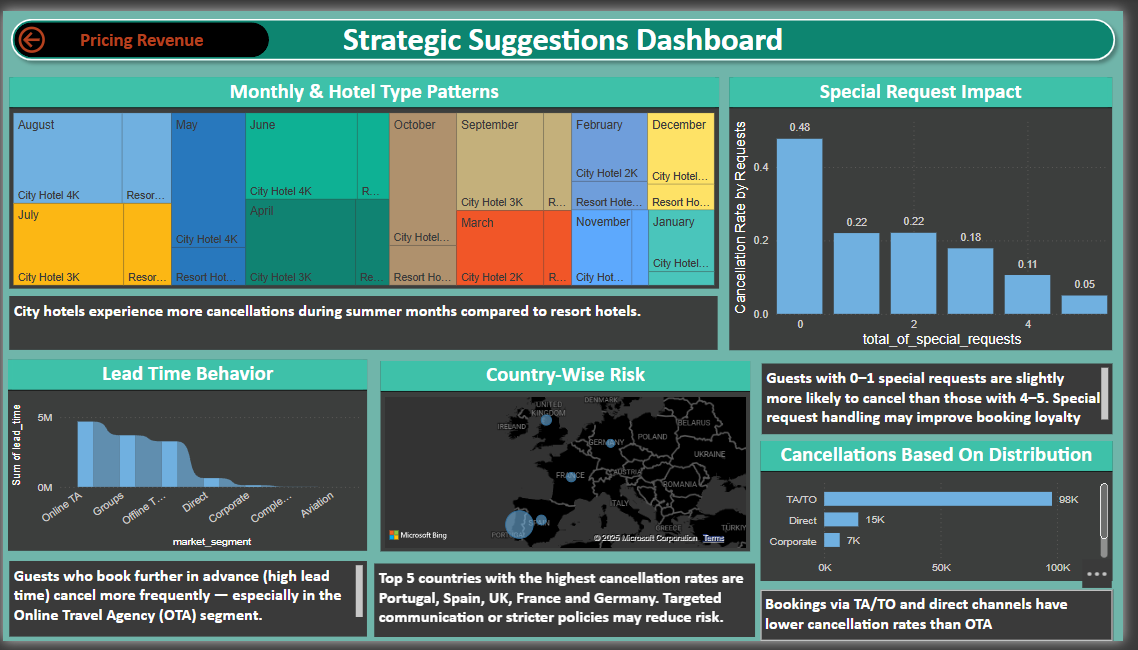

This screenshot's page, from the dashboard's own definition file:
{"tool":"powerbi","page":{"name":"Strategic Suggestions","canvas":[1280,720],"ordinal":2},"visuals":[{"type":"treemap","title":"Monthly & Hotel Type Patterns","fields":{"Group":["hotel_booking.arrival_date_month"],"Values":["Cancelation Overview.Total_Cancellations"],"Details":["hotel_booking.hotel"]},"box":[7.5,75.5,811.2,241.5],"z":0},{"type":"textbox","box":[7.5,325.7,809.9,61.6],"z":1000},{"type":"clusteredColumnChart","title":"Special Request Impact","fields":{"Y":["Strategic_Suggestions.Cancellation Rate by Requests"],"Category":["hotel_booking.total_of_special_requests"]},"box":[829.7,75.5,437.4,311.9],"z":2000},{"type":"textbox","box":[866.5,402.4,401.2,80.5],"z":3000},{"type":"ribbonChart","title":"Lead Time Behavior","fields":{"Category":["hotel_booking.market_segment"],"Y":["Sum(hotel_booking.lead_time)"]},"box":[6.1,398.4,410.6,218.1],"z":4000},{"type":"textbox","box":[7.5,628.8,408.7,86.8],"z":5000},{"type":"map","title":"Country-Wise Risk","fields":{"Category":["hotel_booking.country"],"Size":["Sum(hotel_booking.is_canceled)"]},"box":[431.4,399.9,422.6,217.6],"z":6000},{"type":"textbox","box":[423.8,631.3,435.1,84.3],"z":7000},{"type":"barChart","title":"Cancellations Based On Distribution","fields":{"Y":["CountNonNull(hotel_booking.is_canceled)"],"Category":["hotel_booking.distribution_channel"]},"box":[866.3,491,402.1,159.6],"z":8000},{"type":"textbox","box":[865.7,661.4,402.9,58.6],"z":9000},{"type":"shape","title":"Strategic Suggestions Dashboard","box":[0,0,1280,65.7],"z":10000},{"type":"actionButton","box":[12.2,13.4,291.2,40.2],"z":11000}]}

Visuals, with their boxes in screenshot pixels (x1, y1, x2, y2), scaled from the page's 1280x720 canvas onto the 1138x650 screenshot:
"Monthly & Hotel Type Patterns" treemap: Rect(7, 68, 728, 286)
textbox: Rect(7, 294, 727, 350)
"Special Request Impact" clusteredColumnChart: Rect(738, 68, 1127, 350)
textbox: Rect(770, 363, 1127, 436)
"Lead Time Behavior" ribbonChart: Rect(5, 360, 370, 557)
textbox: Rect(7, 568, 370, 646)
"Country-Wise Risk" map: Rect(384, 361, 759, 557)
textbox: Rect(377, 570, 764, 646)
"Cancellations Based On Distribution" barChart: Rect(770, 443, 1128, 587)
textbox: Rect(770, 597, 1128, 649)
"Strategic Suggestions Dashboard" shape: Rect(0, 0, 1137, 59)
actionButton: Rect(11, 12, 270, 48)
